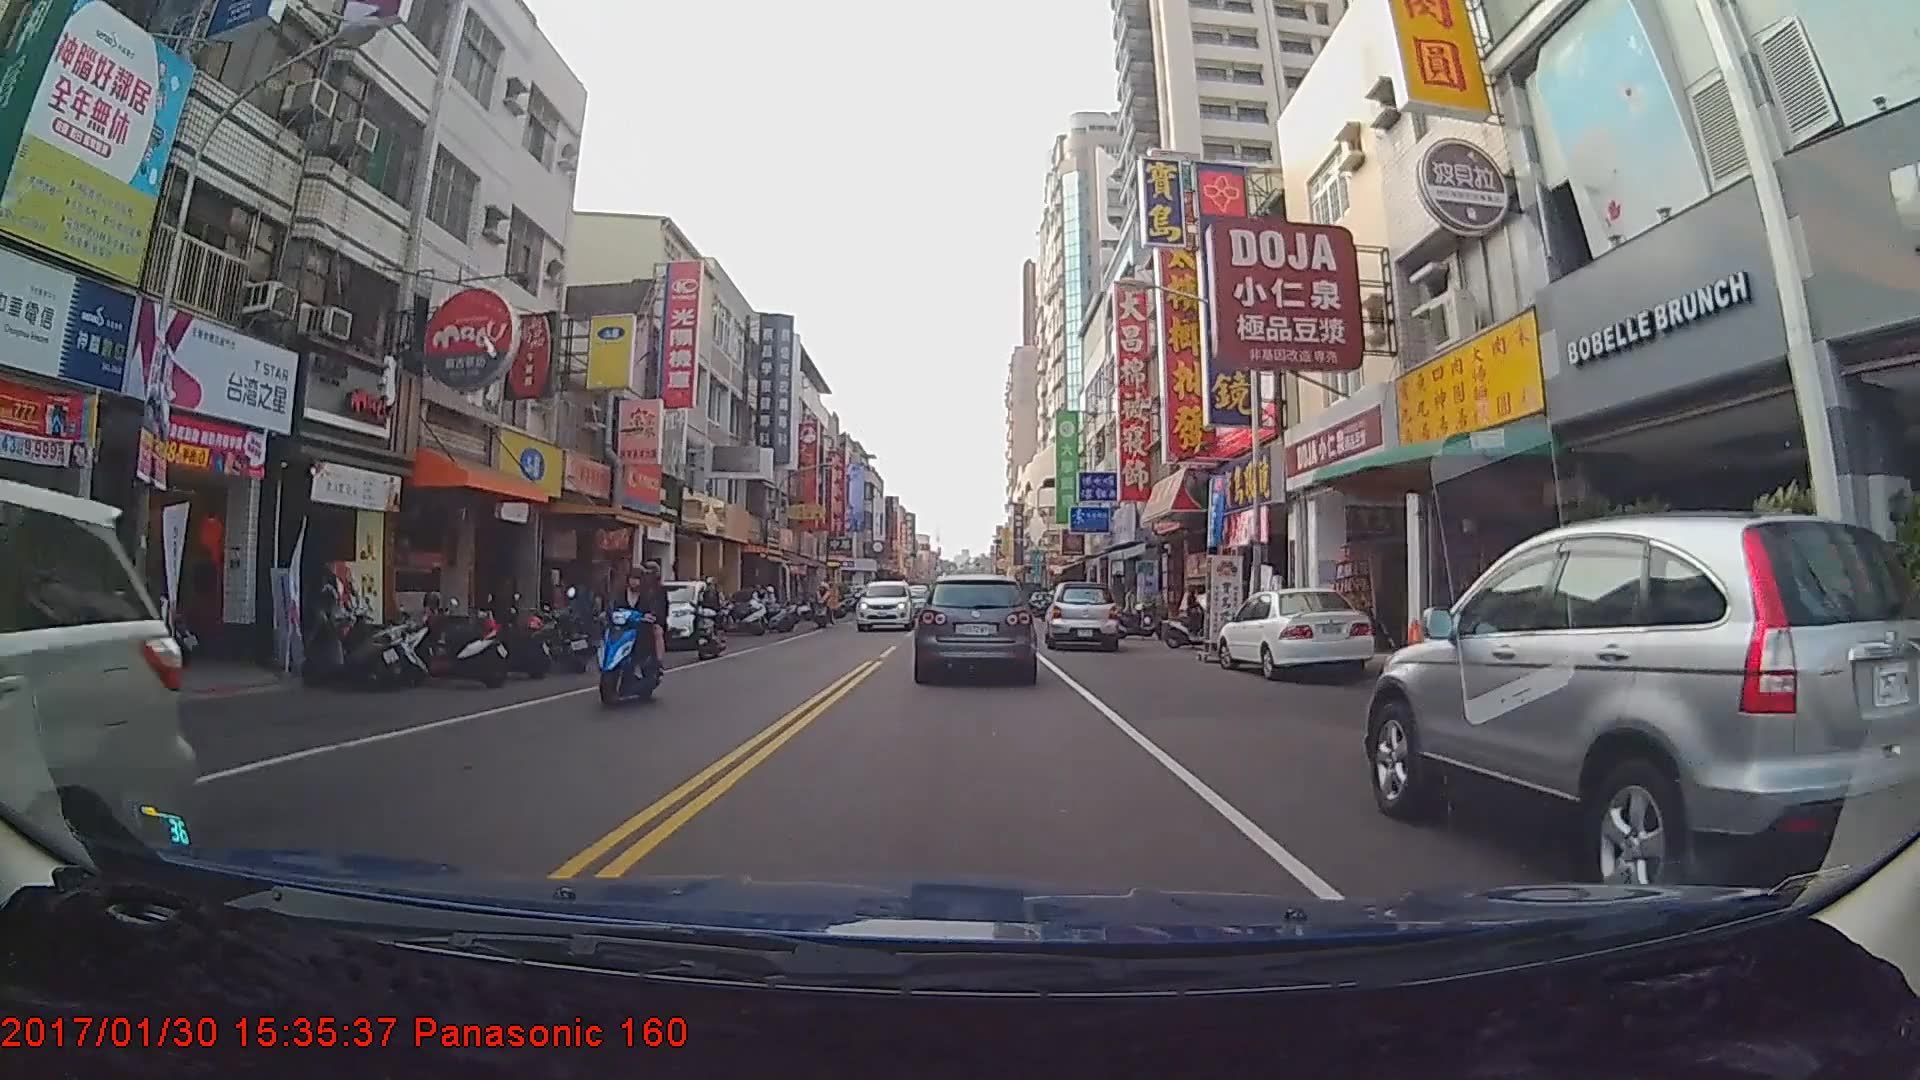rider: (592, 553, 663, 714), (1164, 585, 1225, 651), (694, 572, 726, 659)
vehicle: (1360, 512, 1920, 919), (0, 459, 199, 1054), (1216, 586, 1375, 679), (917, 573, 1037, 681), (613, 579, 727, 651), (1042, 579, 1118, 651), (854, 581, 916, 631)
